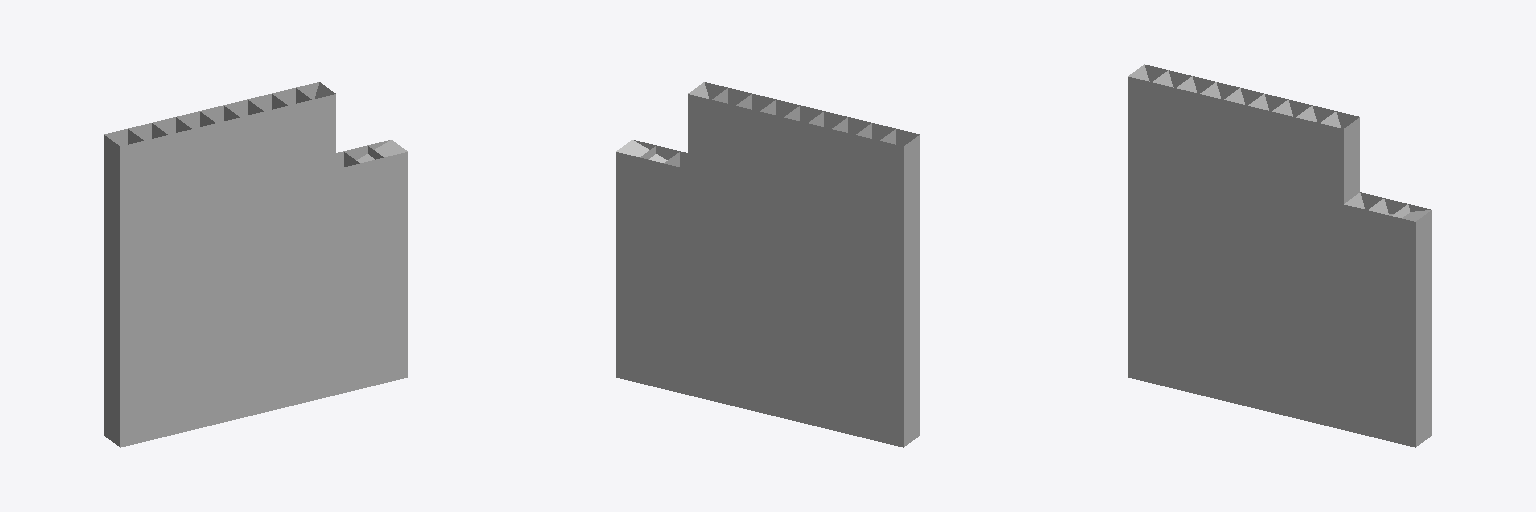
Rendered from 3d_Ungoro Tar Pit04.wlw.obj.
3 views of the same model, side by side, from view 1: azimuth 30°, elevation 25°; view 2: azimuth 150°, elevation 25°; view 3: azimuth 330°, elevation 25° (orthographic).
Size of the model in its own units: 100 by 100 by 10.